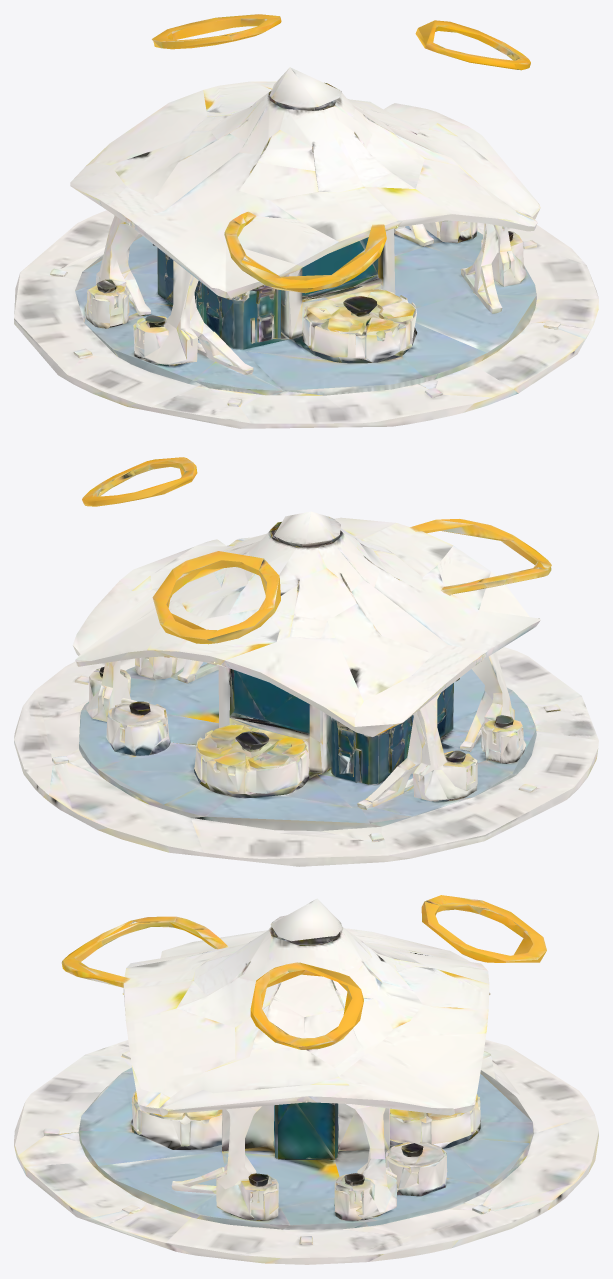
File: bld-holo-market-v2-lod1.glb
The picture shows the model from 3 angles, top to bottom: view 1: azimuth 30°, elevation 25°; view 2: azimuth 150°, elevation 25°; view 3: azimuth 270°, elevation 25°; orthographic projection.
Parts seen in each view (by area): view 1: Mesh_0; view 2: Mesh_0; view 3: Mesh_0.
Boxes of the visible parts, x1=… form: Mesh_0: x1=14, y1=14, x2=598, y2=428; Mesh_0: x1=14, y1=457, x2=598, y2=866; Mesh_0: x1=14, y1=895, x2=598, y2=1264.
Bounding box in the file's own units: 1.9 × 0.8554 × 1.9.
Materials: 1 (1 with a texture image).
